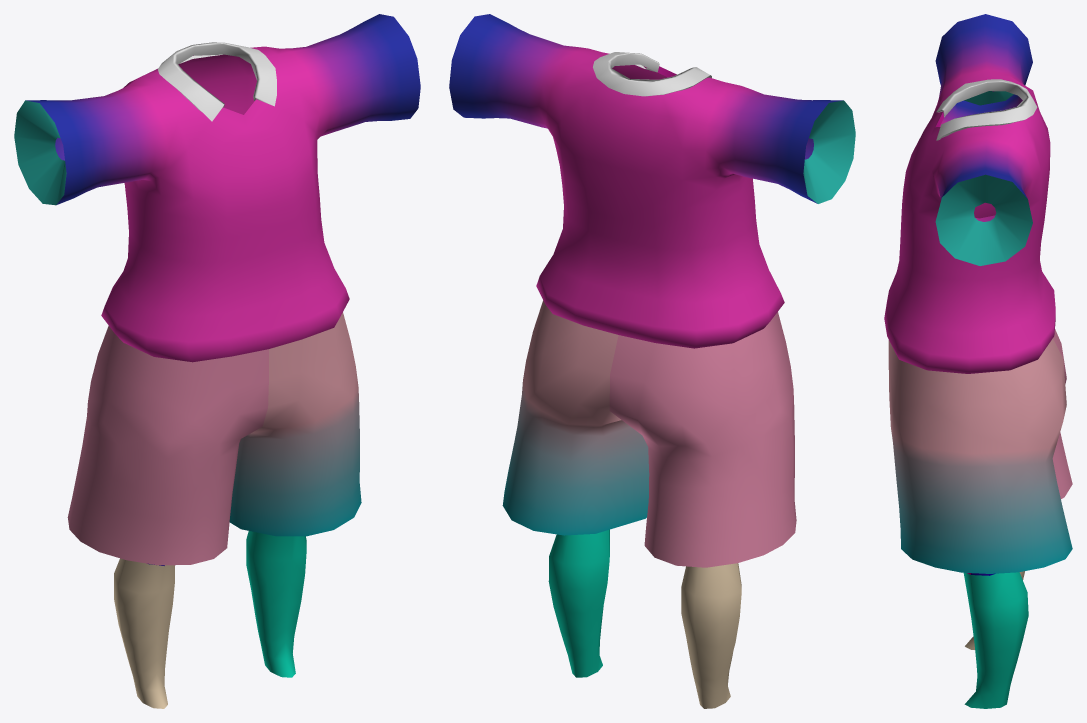
The model's file is 00_Small.fbx.
The picture shows the model from 3 angles, left to right: view 1: azimuth 30°, elevation 25°; view 2: azimuth 150°, elevation 25°; view 3: azimuth 270°, elevation 25°; orthographic projection. The views are drawn at different scales.
Visible parts, largest first — view 1: u000103_20, u000103_30, collar_10; view 2: u000103_20, u000103_30, collar_10; view 3: u000103_20, u000103_30, collar_10.
Part boxes in pixels (box(x1,y1,x2,y2)): u000103_20: box(14, 14, 420, 362); u000103_30: box(67, 312, 361, 708); collar_10: box(158, 42, 276, 121); u000103_20: box(449, 14, 855, 348); u000103_30: box(502, 300, 796, 708); collar_10: box(593, 52, 711, 96); u000103_20: box(884, 14, 1055, 373); u000103_30: box(888, 329, 1072, 708); collar_10: box(936, 79, 1037, 140).
Size of the model in its own units: 49.63 by 83.71 by 24.61.
